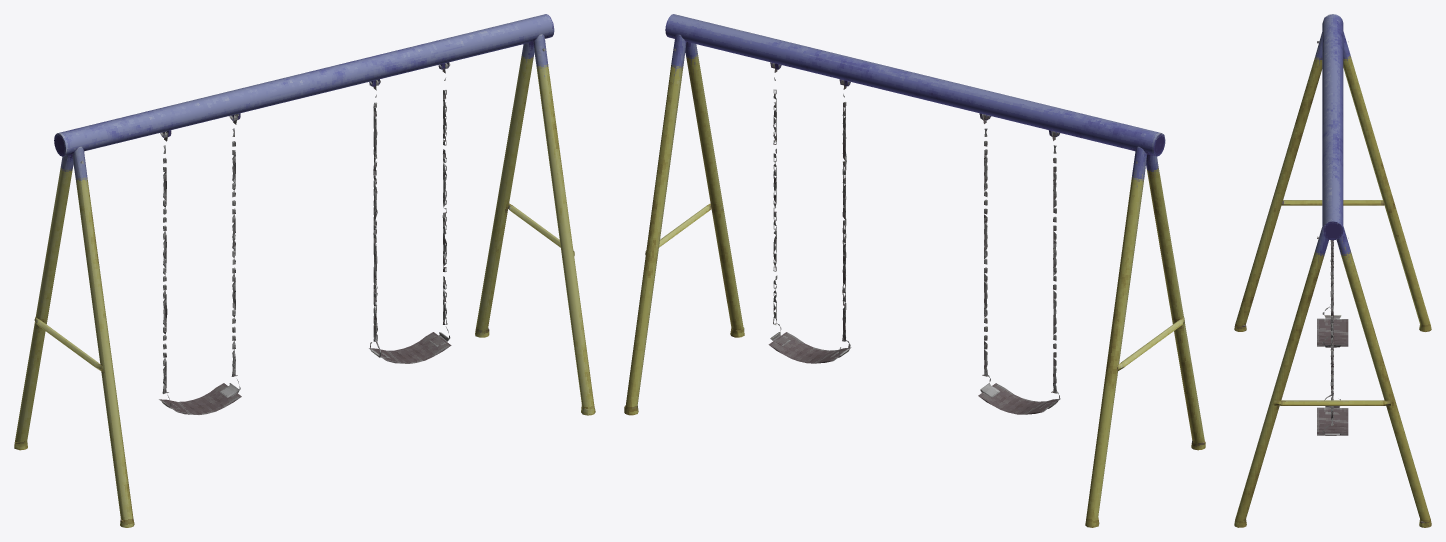
The model's file is swingset.glb.
3 renders of one model, left to right at view 1: azimuth 30°, elevation 25°; view 2: azimuth 150°, elevation 25°; view 3: azimuth 270°, elevation 25°, orthographic. The views are drawn at different scales.
Visible parts, largest first — view 1: mesh; view 2: mesh; view 3: mesh.
Part boxes in pixels (x1,y1,x2,y2): mesh: (14, 14, 595, 527); mesh: (624, 14, 1205, 527); mesh: (1234, 14, 1431, 527).
Size of the model in its own units: 3.16 by 2.2 by 1.27.
Materials: 1 (1 with a texture image).
